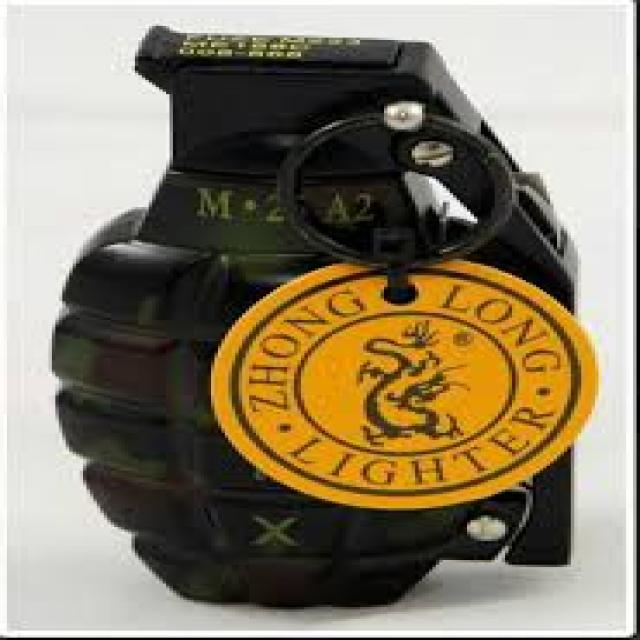grenade: (41, 21, 598, 618)
